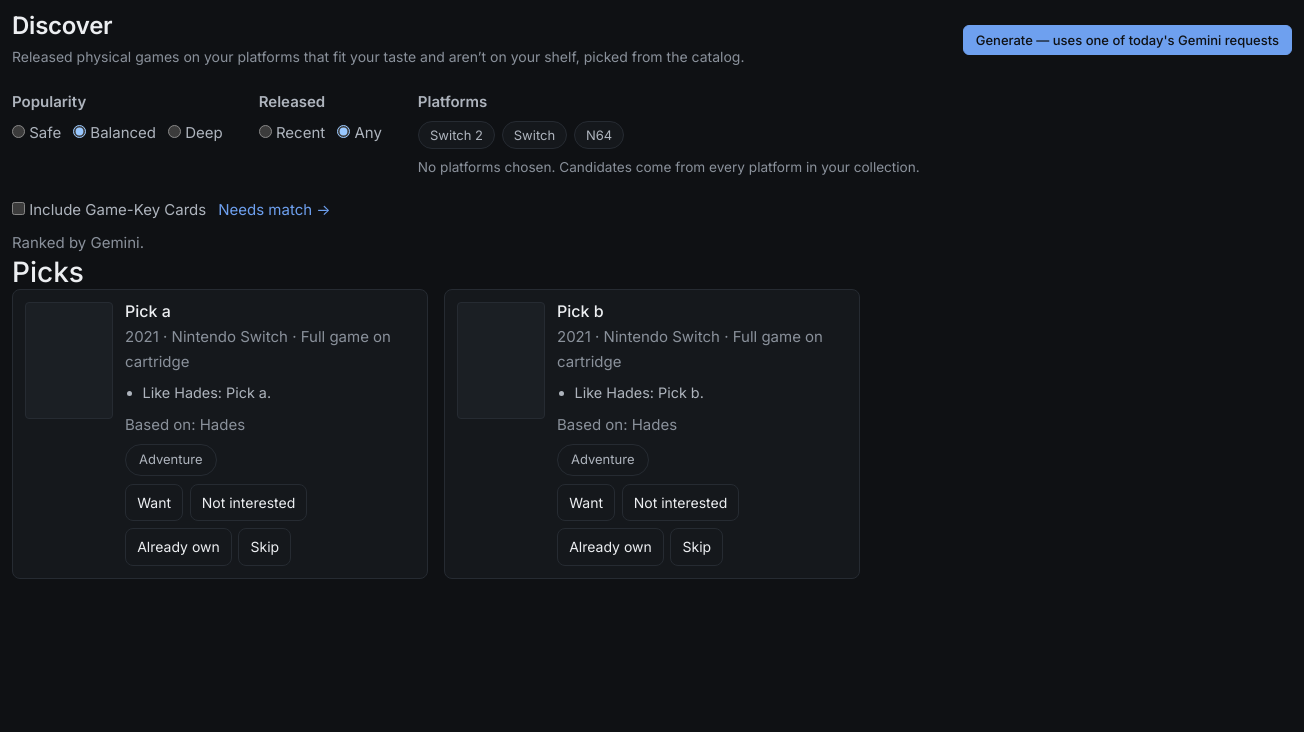
AdminDiscover › generates with the defaults: balanced, any, the collection, no key cards
Expected: the heading "Pick a" is shown, [125, 301, 171, 321]
Click the button "Generate — uses one of today's Gemini requests" at (1127, 40), box [963, 25, 1292, 55]
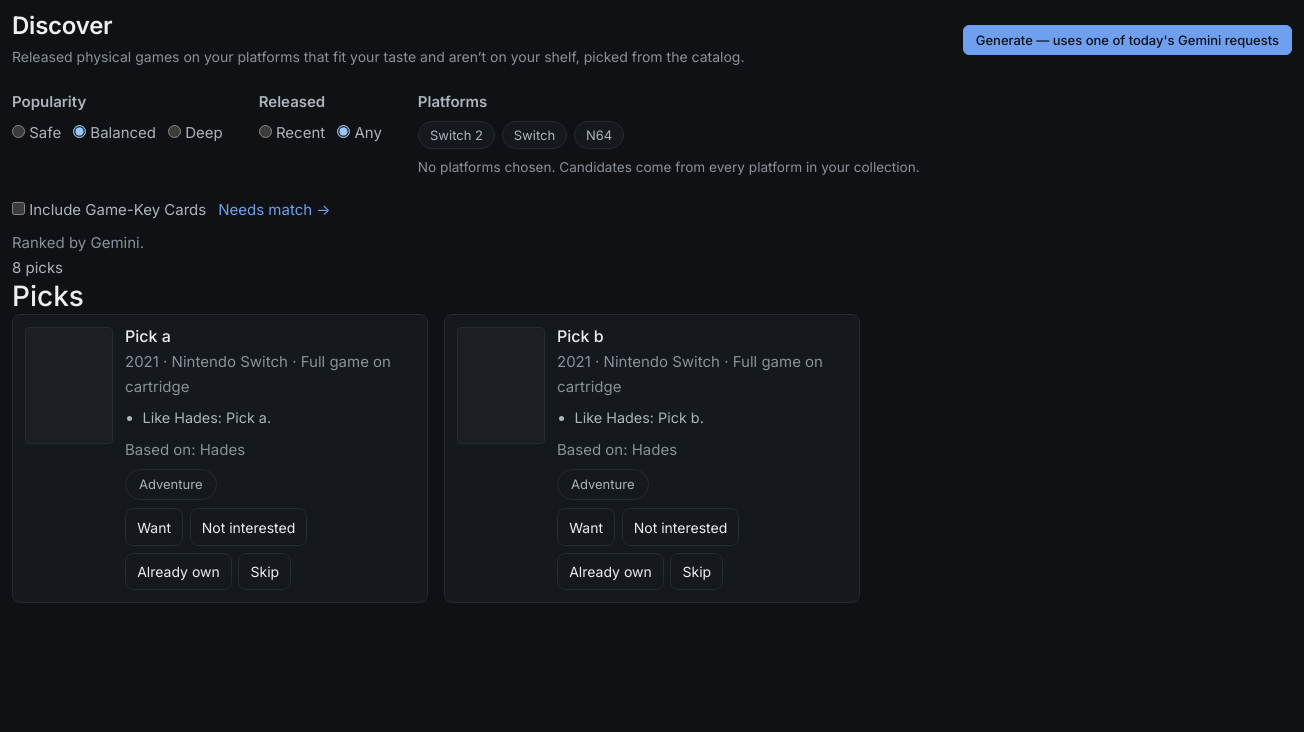
Result: the message reads "8 picks" at [12, 258, 63, 276]
